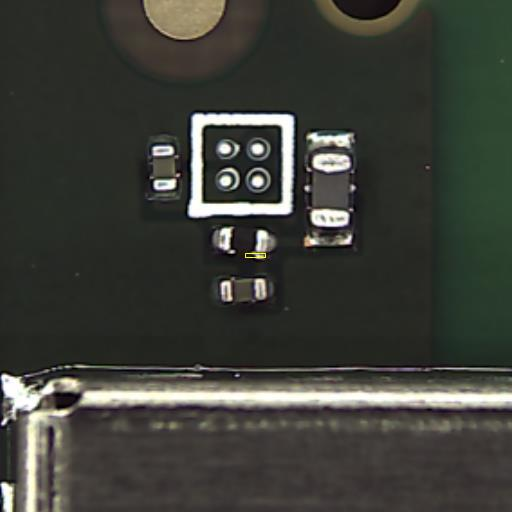bottom_layer: (305, 131, 354, 245), (146, 135, 181, 199), (212, 227, 275, 255), (211, 279, 274, 302)
top_layer: (311, 151, 351, 226), (219, 227, 268, 253), (151, 144, 176, 190), (220, 278, 266, 301)
